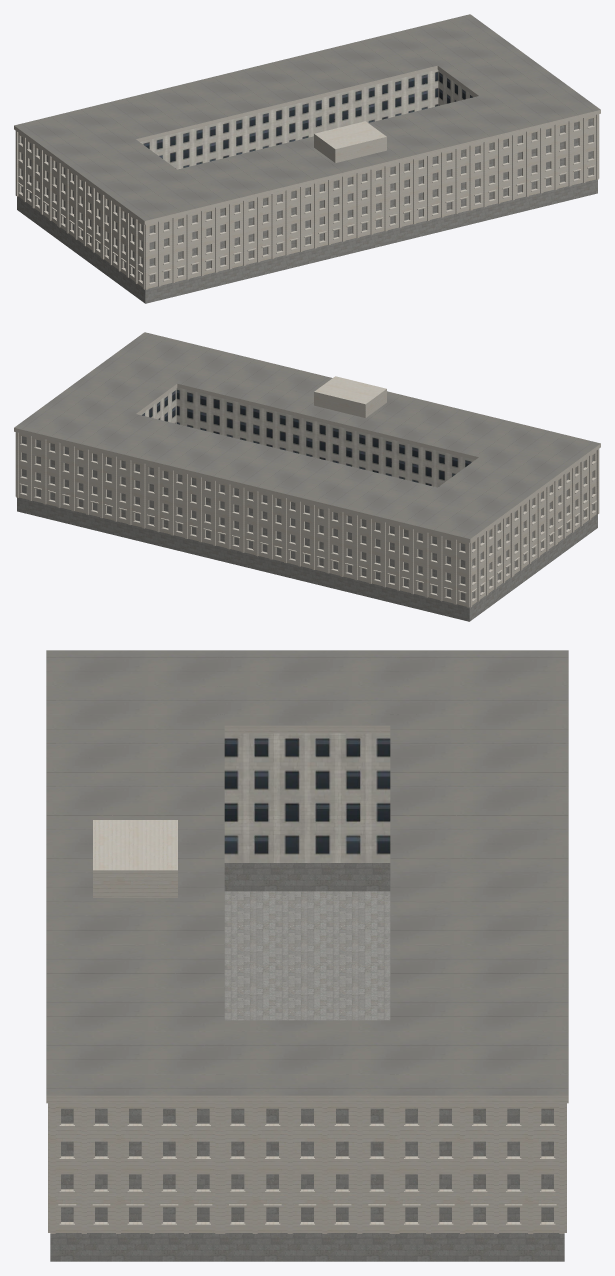
Rendered from loc_adams.glb.
The picture shows the model from 3 angles, top to bottom: view 1: azimuth 30°, elevation 25°; view 2: azimuth 150°, elevation 25°; view 3: azimuth 270°, elevation 25°; orthographic projection. The views are drawn at different scales.
Parts seen in each view (by area): view 1: loc_adams; view 2: loc_adams; view 3: loc_adams.
Boxes of the visible parts, x1,y1,x2,y2 form: loc_adams: [14, 14, 600, 303]; loc_adams: [14, 332, 600, 621]; loc_adams: [46, 650, 568, 1261].
Bounding box in the file's own units: 124 × 25.4 × 61.49.
4 materials, 4 textured.
